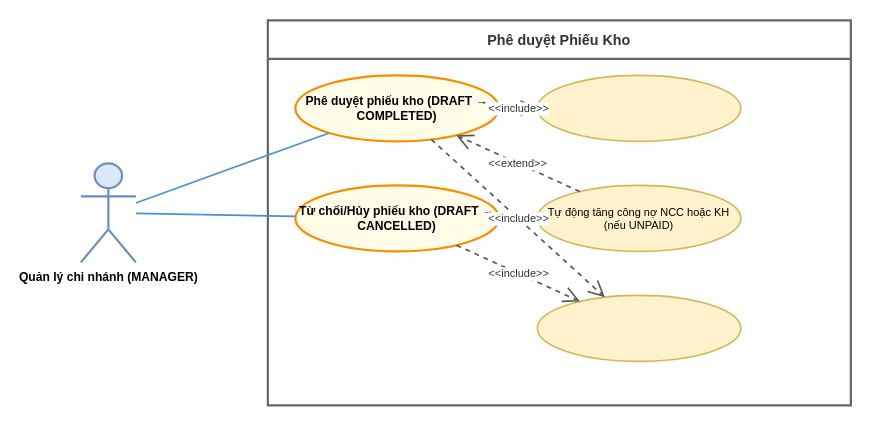
Some shapes in this 871 by 425 pixel diagram are drawn without their labels. The shapes that lost their labels are listed below. From the top down, each one's centre as x and y in pixels, then its label:
point (638, 108): Cập nhật số lượng tồn kho thực tế (@Transactional)
point (638, 328): Khóa phiếu vĩnh viễn (không sửa/xóa được)
